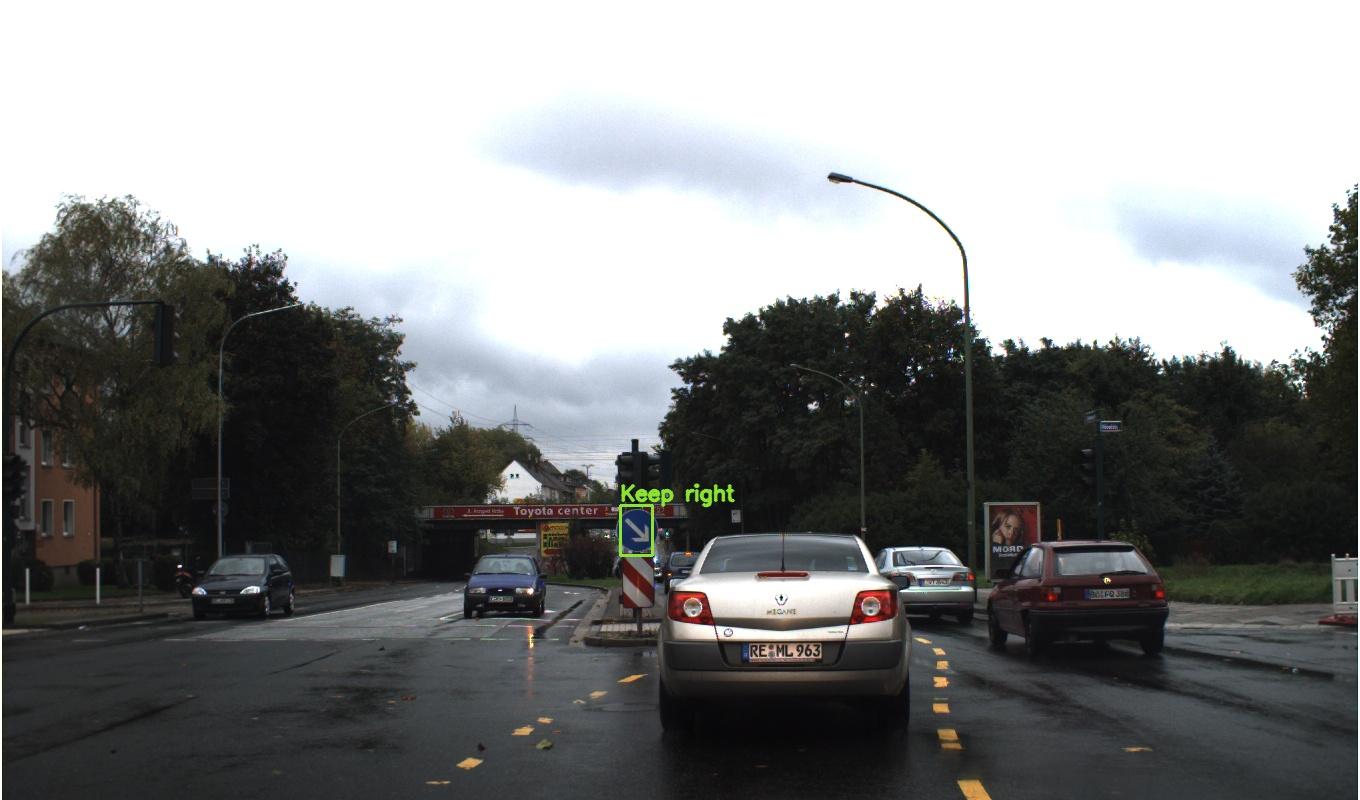Speed limit (30km/h): (846, 429, 875, 458)
